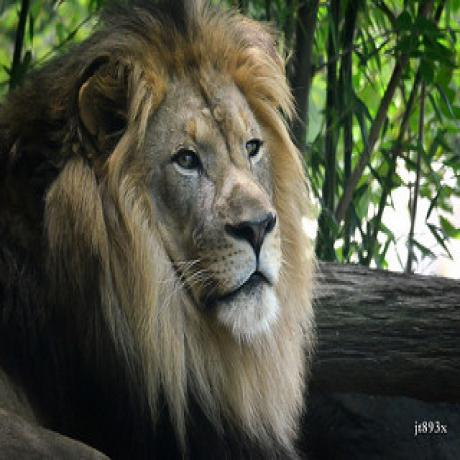Lion: (0, 0, 324, 460)
